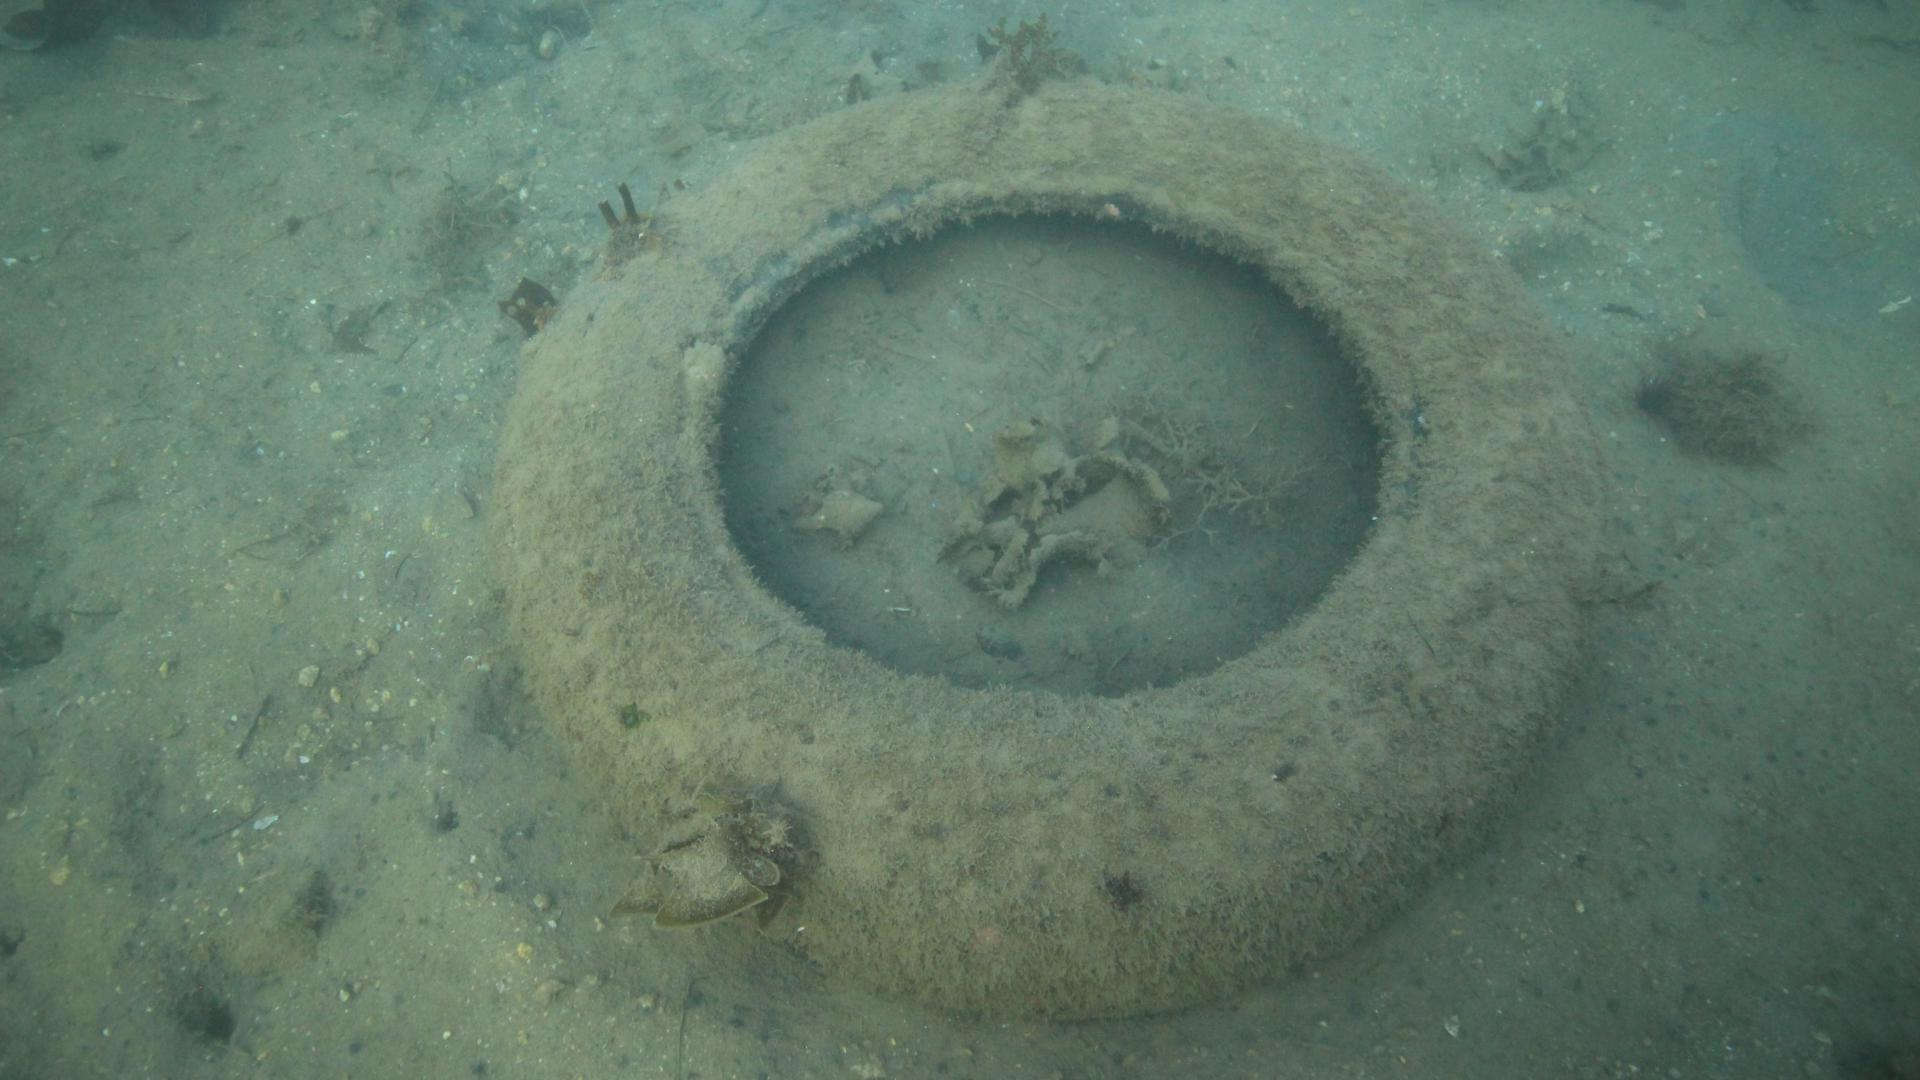tire: (487, 73, 1607, 1021)
